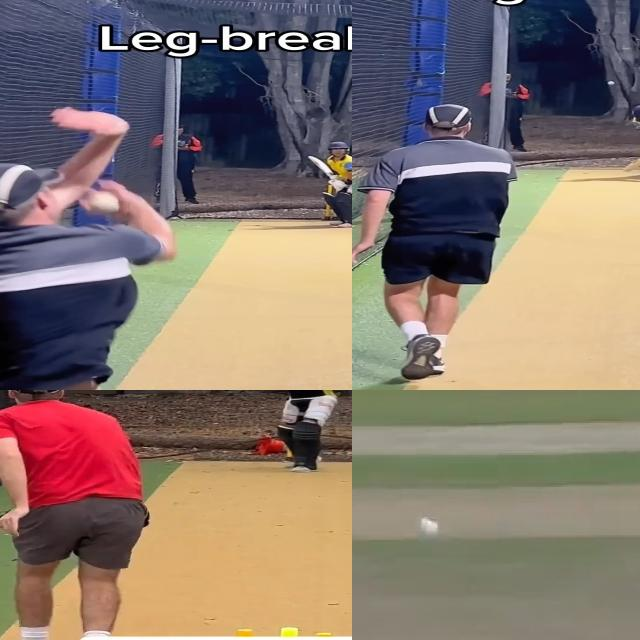Cricket ball: (85, 187, 130, 221), (421, 513, 443, 545), (606, 80, 616, 86)
